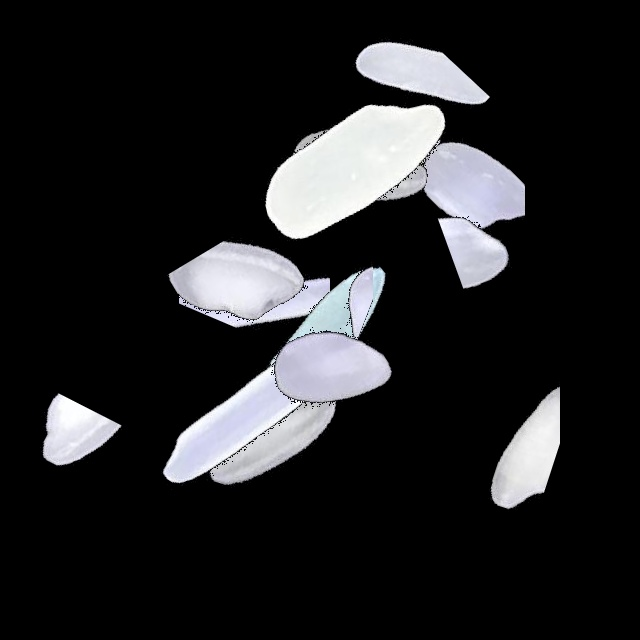Broken: (360, 92, 525, 342), (130, 234, 380, 392), (266, 34, 516, 190), (179, 128, 330, 378), (422, 307, 560, 557), (0, 340, 124, 590), (380, 174, 630, 292), (269, 164, 373, 414)
Full: (252, 34, 502, 284), (147, 308, 397, 558), (198, 218, 448, 468), (233, 40, 483, 290), (229, 41, 479, 291), (121, 296, 371, 546), (204, 241, 454, 491)
